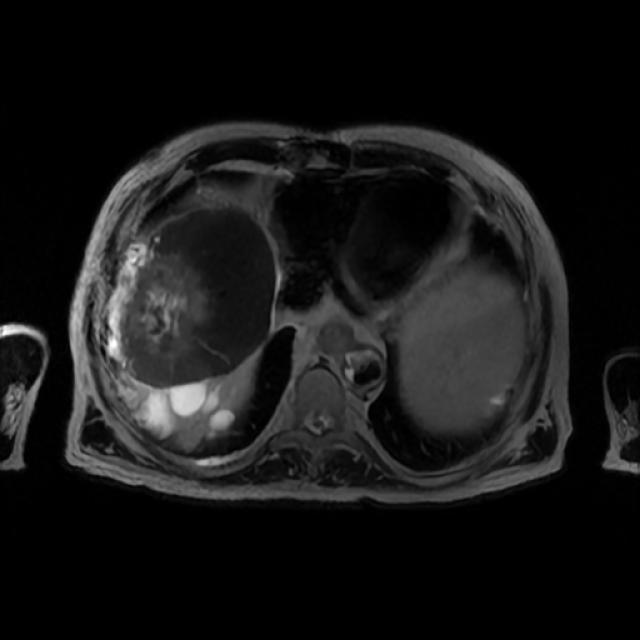sag: (130, 379, 236, 442)
